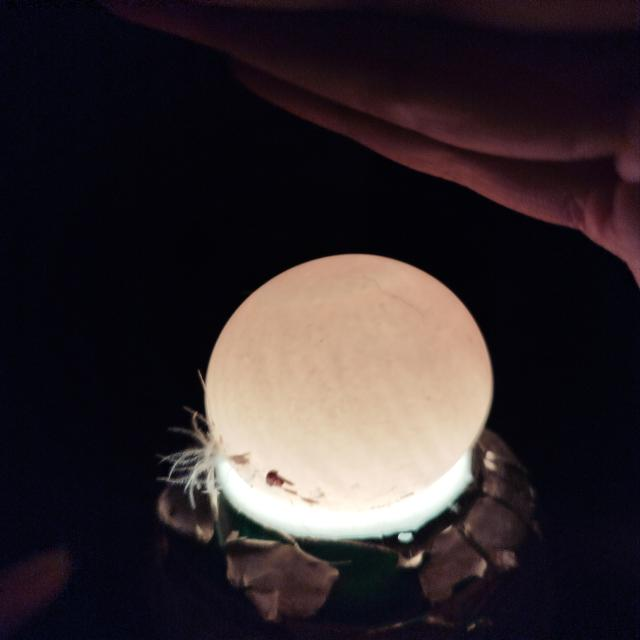Camara de Ar: (240, 255, 414, 309)
